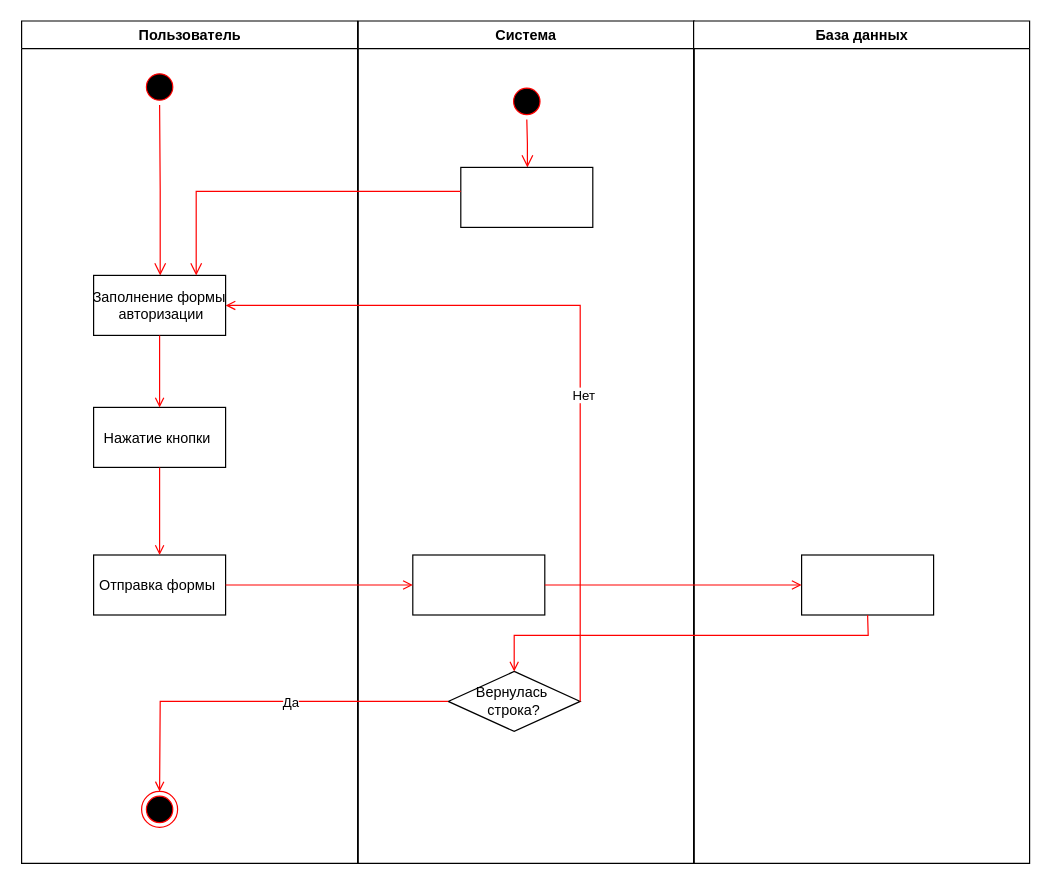
Some shapes in this 1050 by 884 pixel diagram are drawn without their labels. The shapes that lost their labels are listed below. From the top down, each one's centre as x and y in pixels, then its label:
At [526,196]: "Загрузка страницы".
At [478,584]: "Выполнение запроса поиска по логину и паролю".
At [867,584]: "Выполнение SQL запроса".
